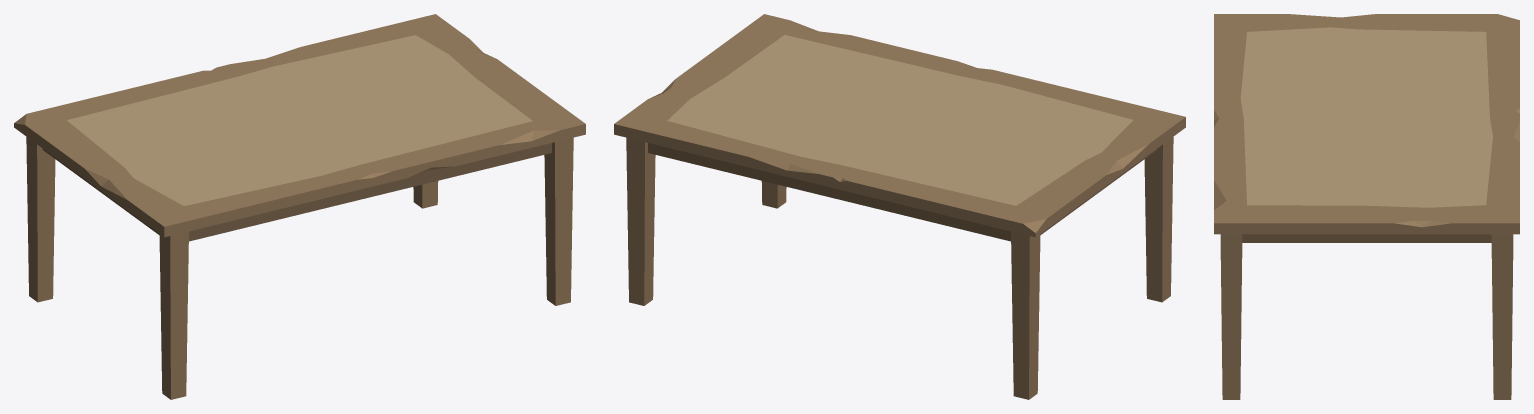
The model's file is SM_Prop_DiningTable_01.fbx.
3 renders of one model, left to right at view 1: azimuth 30°, elevation 25°; view 2: azimuth 150°, elevation 25°; view 3: azimuth 270°, elevation 25°, orthographic.
Visible parts, largest first — view 1: SM_Prop_DiningTable_01; view 2: SM_Prop_DiningTable_01; view 3: SM_Prop_DiningTable_01.
Part boxes in pixels (x1,y1,x2,y2): SM_Prop_DiningTable_01: (14, 14, 585, 399); SM_Prop_DiningTable_01: (614, 14, 1185, 399); SM_Prop_DiningTable_01: (1214, 14, 1519, 399).
Size of the model in its own units: 210 by 85.28 by 130.
